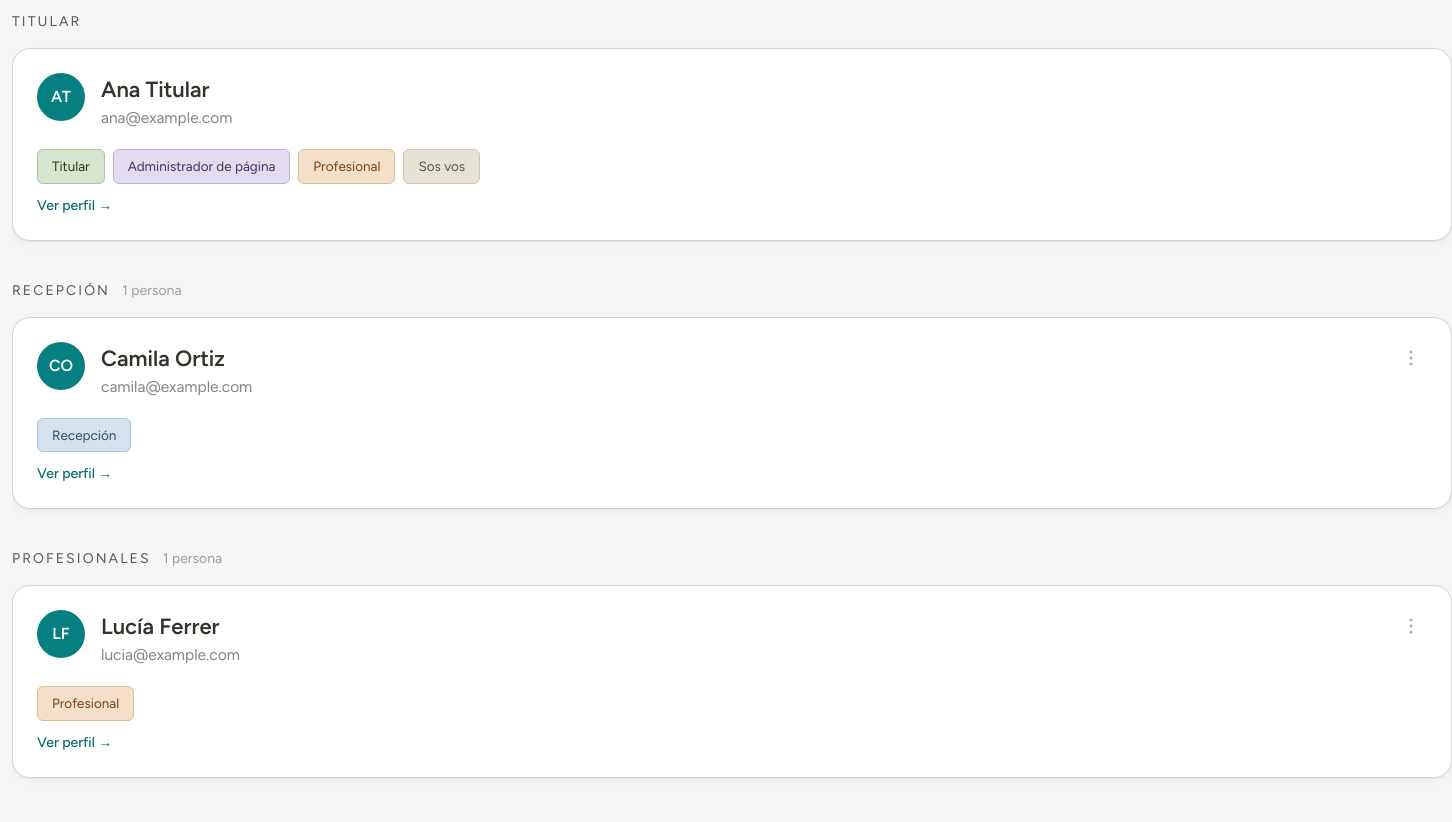
Test case: EquipoDeLaClinica (Fase 3.2.4) › si quitar falla, lo dice en la tarjeta
The image size is (1452, 822).
Click the button named "Acciones de Camila Ortiz". click: (1411, 358)
box: [1395,342,1427,374]
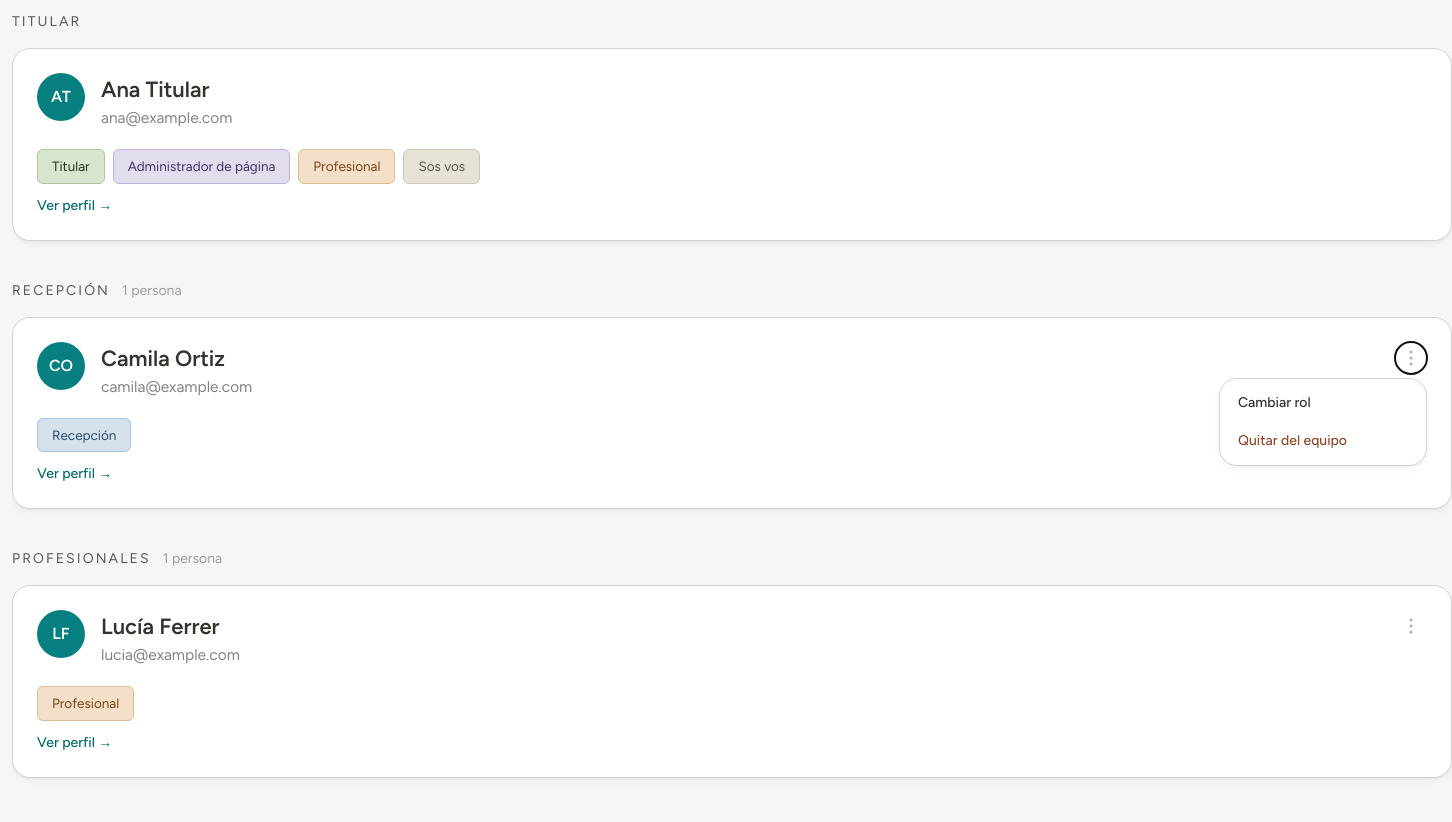
Click the button "Quitar del equipo". click: (1323, 440)
box: [1226,422,1420,458]
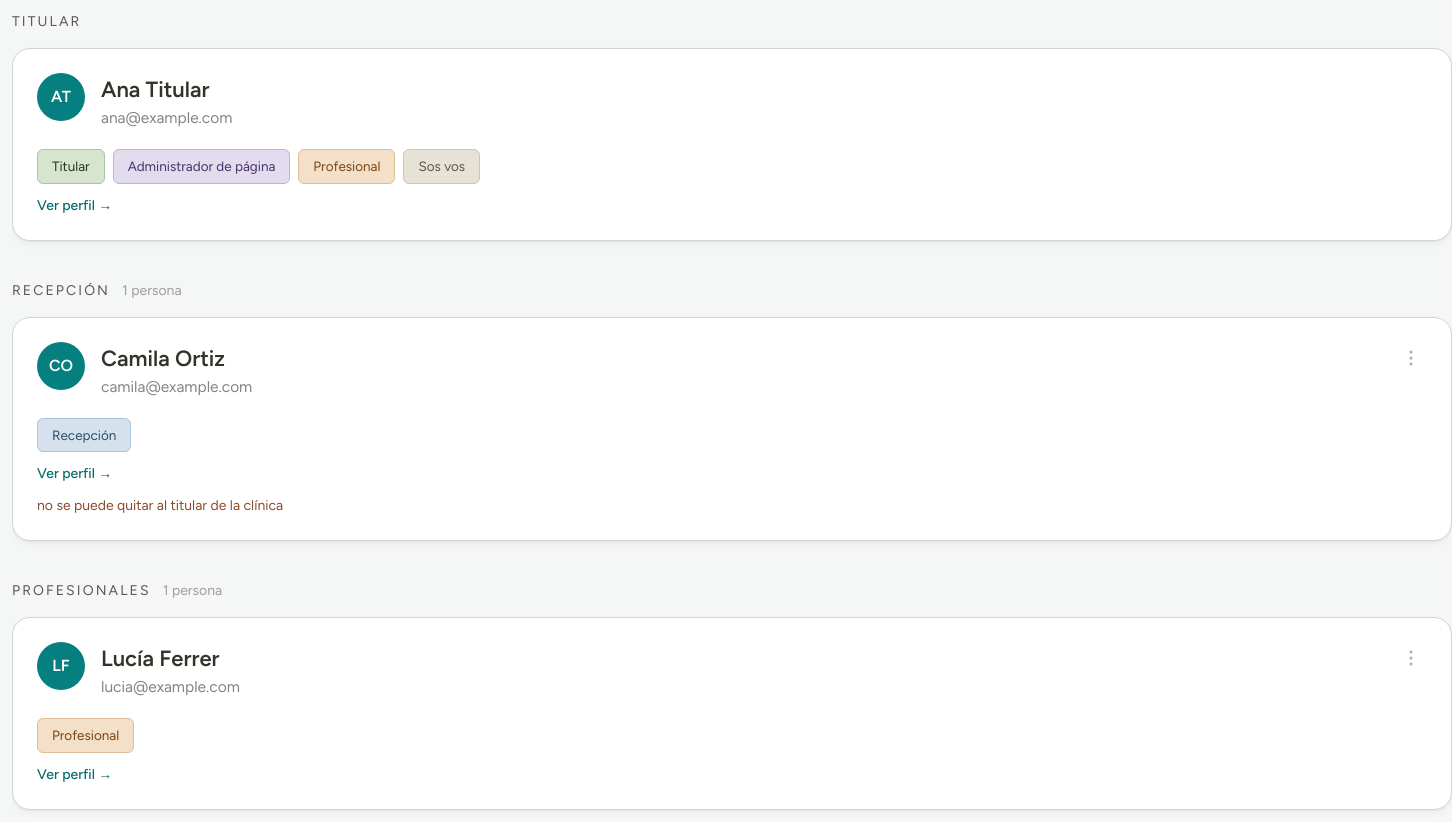
Check: the message shows "no se puede quitar al titular", box [37,497,283,514]
